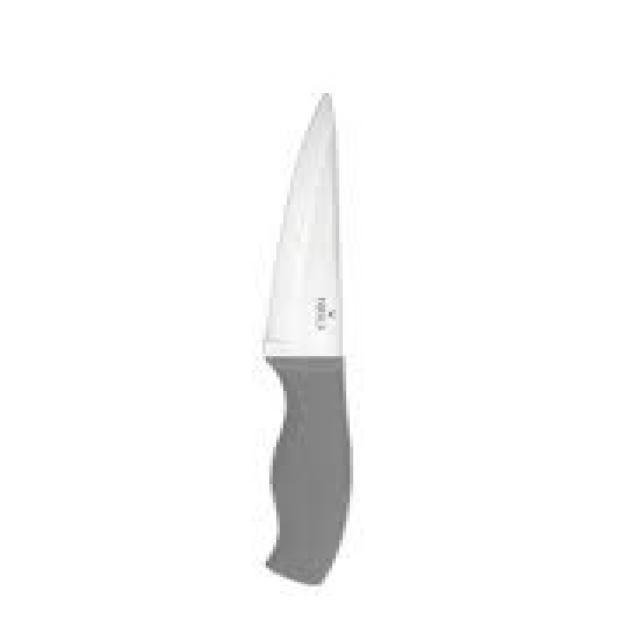knife: (261, 87, 387, 597)
